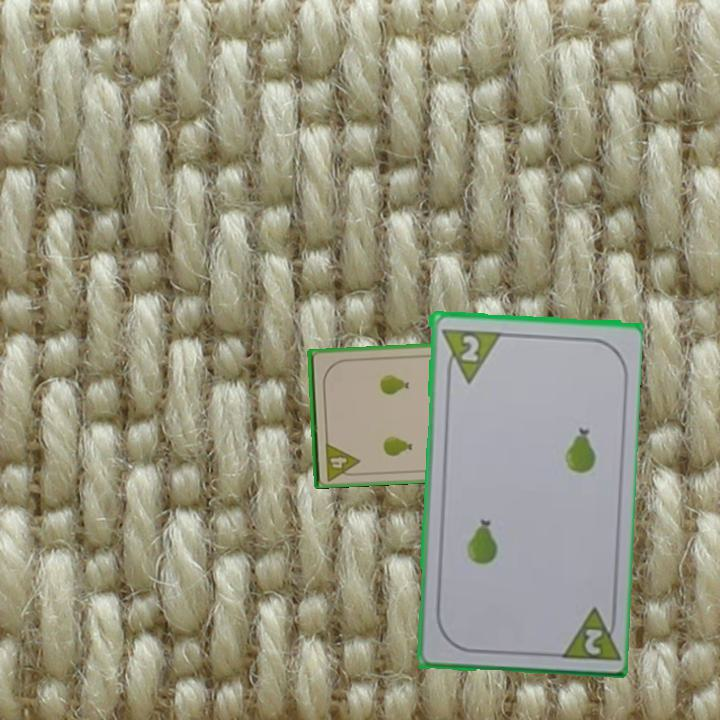2p: (553, 602, 620, 664), (437, 325, 501, 385)
4p: (322, 438, 362, 482)
